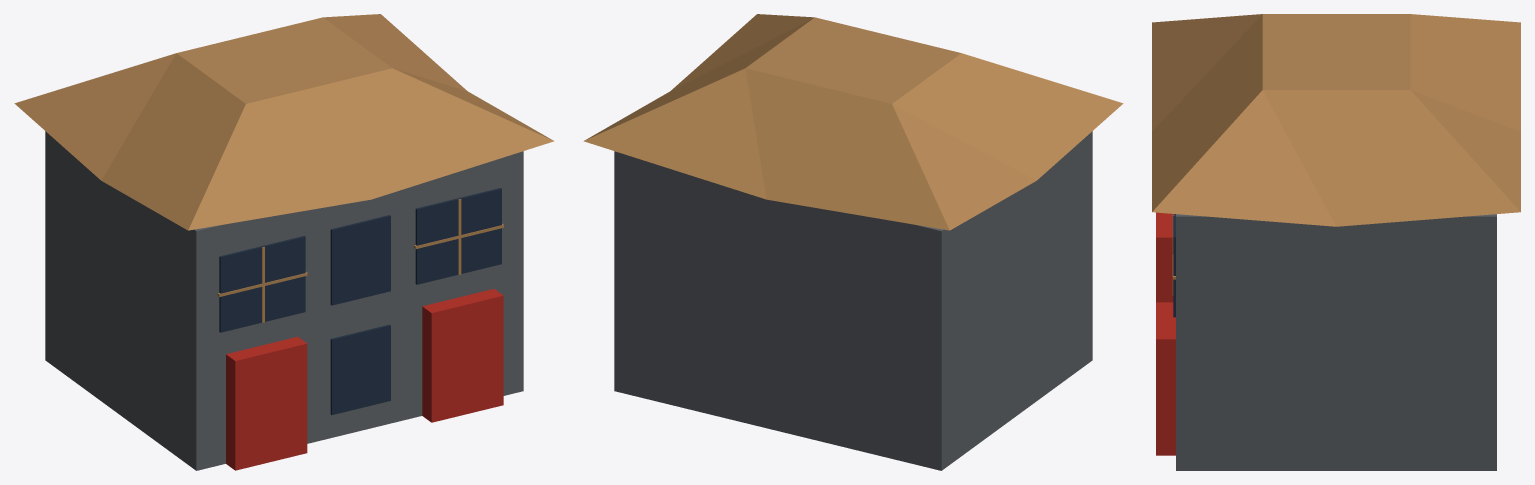
File: building_eastyork_s4_modern_sino_terrace.glb
3 renders of one model, left to right at view 1: azimuth 30°, elevation 25°; view 2: azimuth 150°, elevation 25°; view 3: azimuth 270°, elevation 25°, orthographic. The views are drawn at different scales.
Parts seen in each view (by area): view 1: building_eastyork_s4_modern_sino_terrace; view 2: building_eastyork_s4_modern_sino_terrace; view 3: building_eastyork_s4_modern_sino_terrace.
Part boxes in pixels (x1=…): building_eastyork_s4_modern_sino_terrace: x1=14, y1=14, x2=554, y2=470; building_eastyork_s4_modern_sino_terrace: x1=583, y1=14, x2=1123, y2=470; building_eastyork_s4_modern_sino_terrace: x1=1152, y1=14, x2=1520, y2=470.
Size of the model in its own units: 11.2 by 9.2 by 9.2.
Materials: 1 (1 with a texture image).
